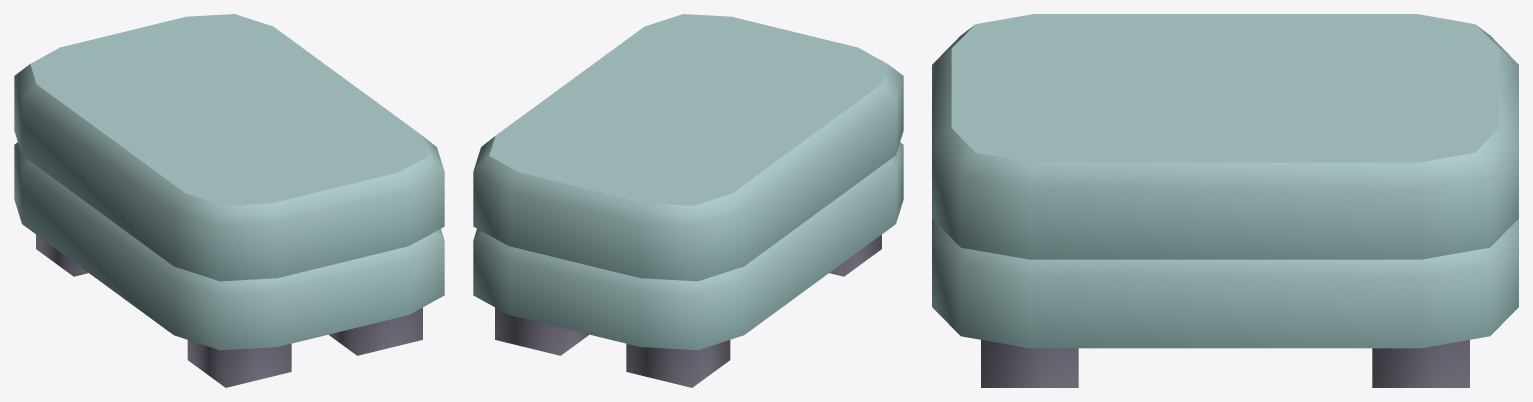
The model's file is budapest-ottoman.glb.
The picture shows the model from 3 angles, left to right: view 1: azimuth 30°, elevation 25°; view 2: azimuth 150°, elevation 25°; view 3: azimuth 270°, elevation 25°; orthographic projection. The views are drawn at different scales.
Visible parts, largest first — view 1: budapest-ottoman; view 2: budapest-ottoman; view 3: budapest-ottoman.
Part boxes in pixels (box(x1,y1,x2,y2)): budapest-ottoman: box(14, 14, 444, 387); budapest-ottoman: box(473, 14, 903, 387); budapest-ottoman: box(932, 14, 1518, 387).
Bounding box in the file's own units: 0.4 × 0.268 × 0.6.
